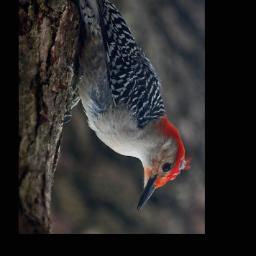Woodpecker: (60, 0, 192, 210)
